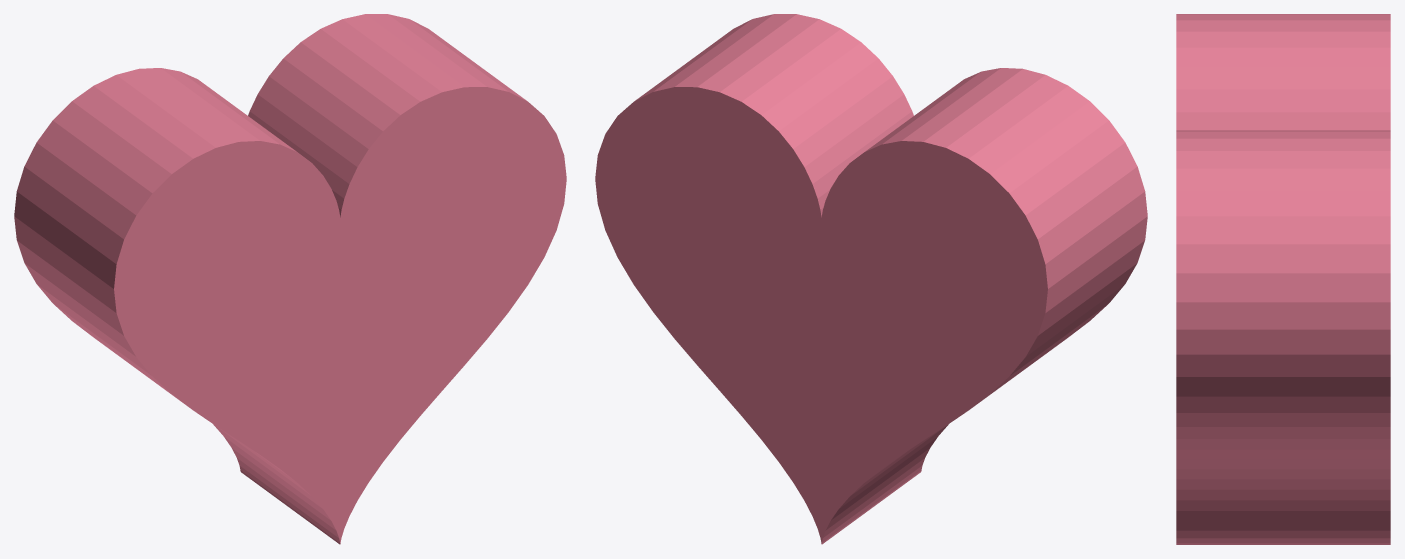
The model's file is heart.glb.
3 views of the same model, side by side, from view 1: azimuth 30°, elevation 25°; view 2: azimuth 150°, elevation 25°; view 3: azimuth 270°, elevation 25° (orthographic). The views are drawn at different scales.
Visible parts, largest first — view 1: heart; view 2: heart; view 3: heart.
Part boxes in pixels (x1,y1,x2,y2): heart: (14, 14, 566, 544); heart: (595, 14, 1147, 544); heart: (1176, 14, 1390, 544).
Bounding box in the file's own units: 1.1 × 0.9933 × 0.42.
